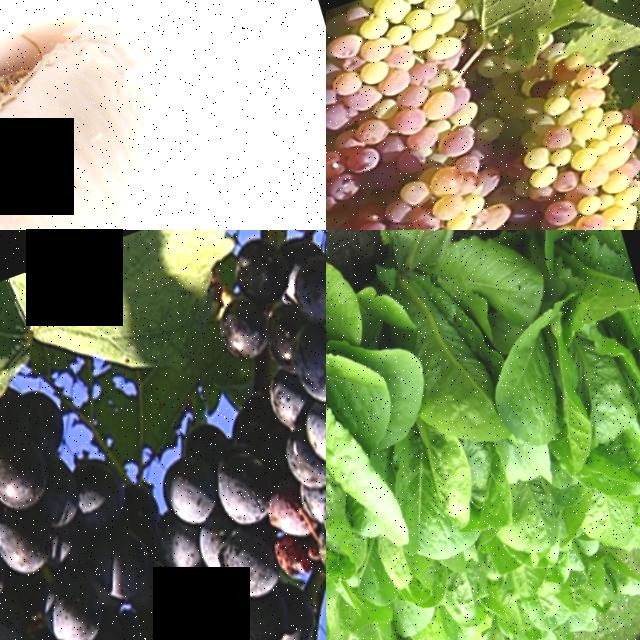garlic: (0, 0, 326, 230)
grapes: (166, 230, 326, 640), (0, 387, 223, 640), (326, 0, 523, 207), (492, 48, 640, 230), (364, 148, 535, 230)
lettuce: (452, 259, 640, 539), (326, 312, 474, 610), (387, 542, 537, 640)
